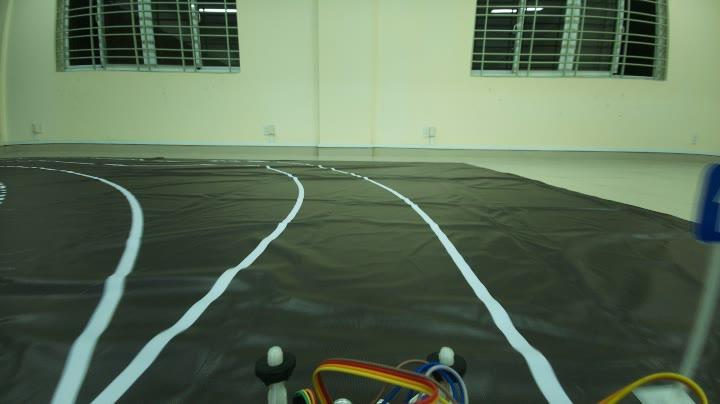onewayroad: (690, 158, 720, 242)
